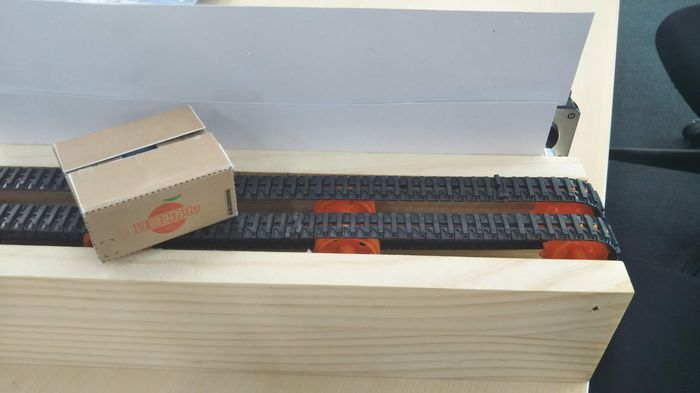box1: (48, 102, 238, 262)
